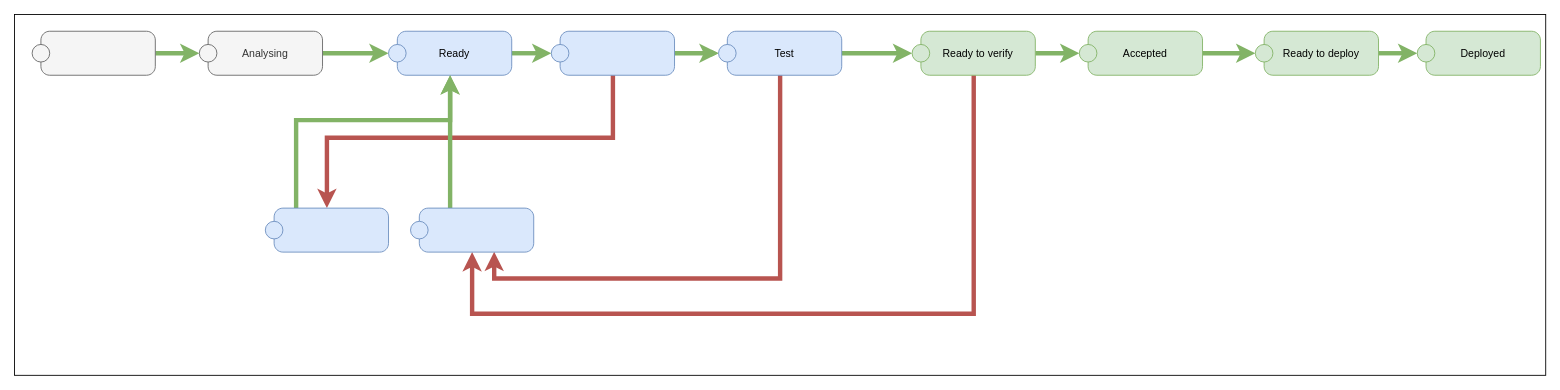
Some shapes in this 1560 by 390 pixel diagram are drawn without their labels. The box of each missing label's shape, as (x1, y1, x2, y2) in pixels:
Blocked: (264, 207, 389, 252)
In Progress: (550, 30, 675, 75)
New: (31, 30, 155, 75)
To rework: (410, 207, 534, 252)
